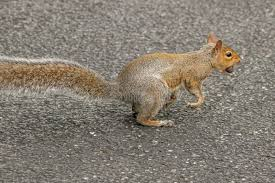squirrel: (0, 34, 242, 117)
